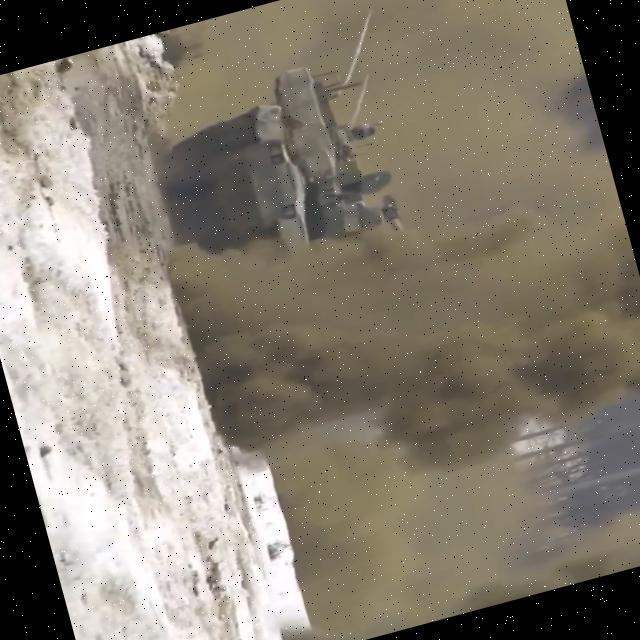korea tank: (133, 48, 454, 438)
